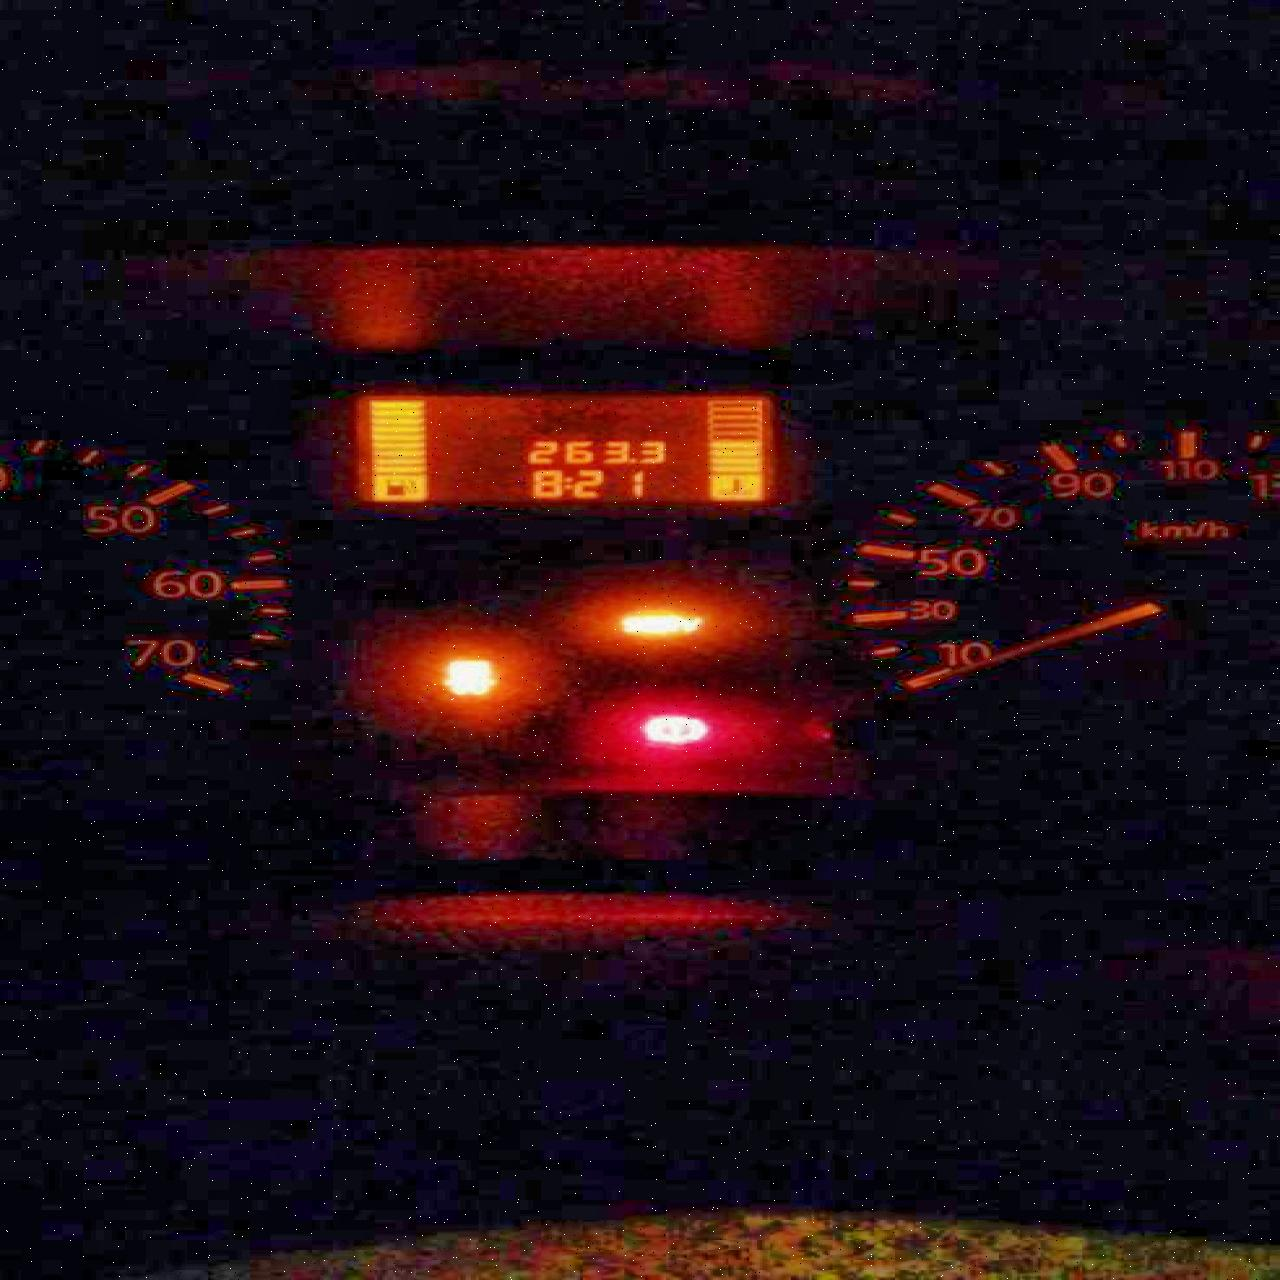-: (627, 457, 638, 463)
1: (625, 468, 646, 497)
2: (572, 468, 601, 497), (523, 438, 557, 463)
3: (638, 438, 663, 463), (601, 438, 627, 463)
6: (559, 438, 593, 463)
8: (527, 468, 559, 497)
X: (561, 475, 570, 489)
odometer: (341, 390, 781, 509)
